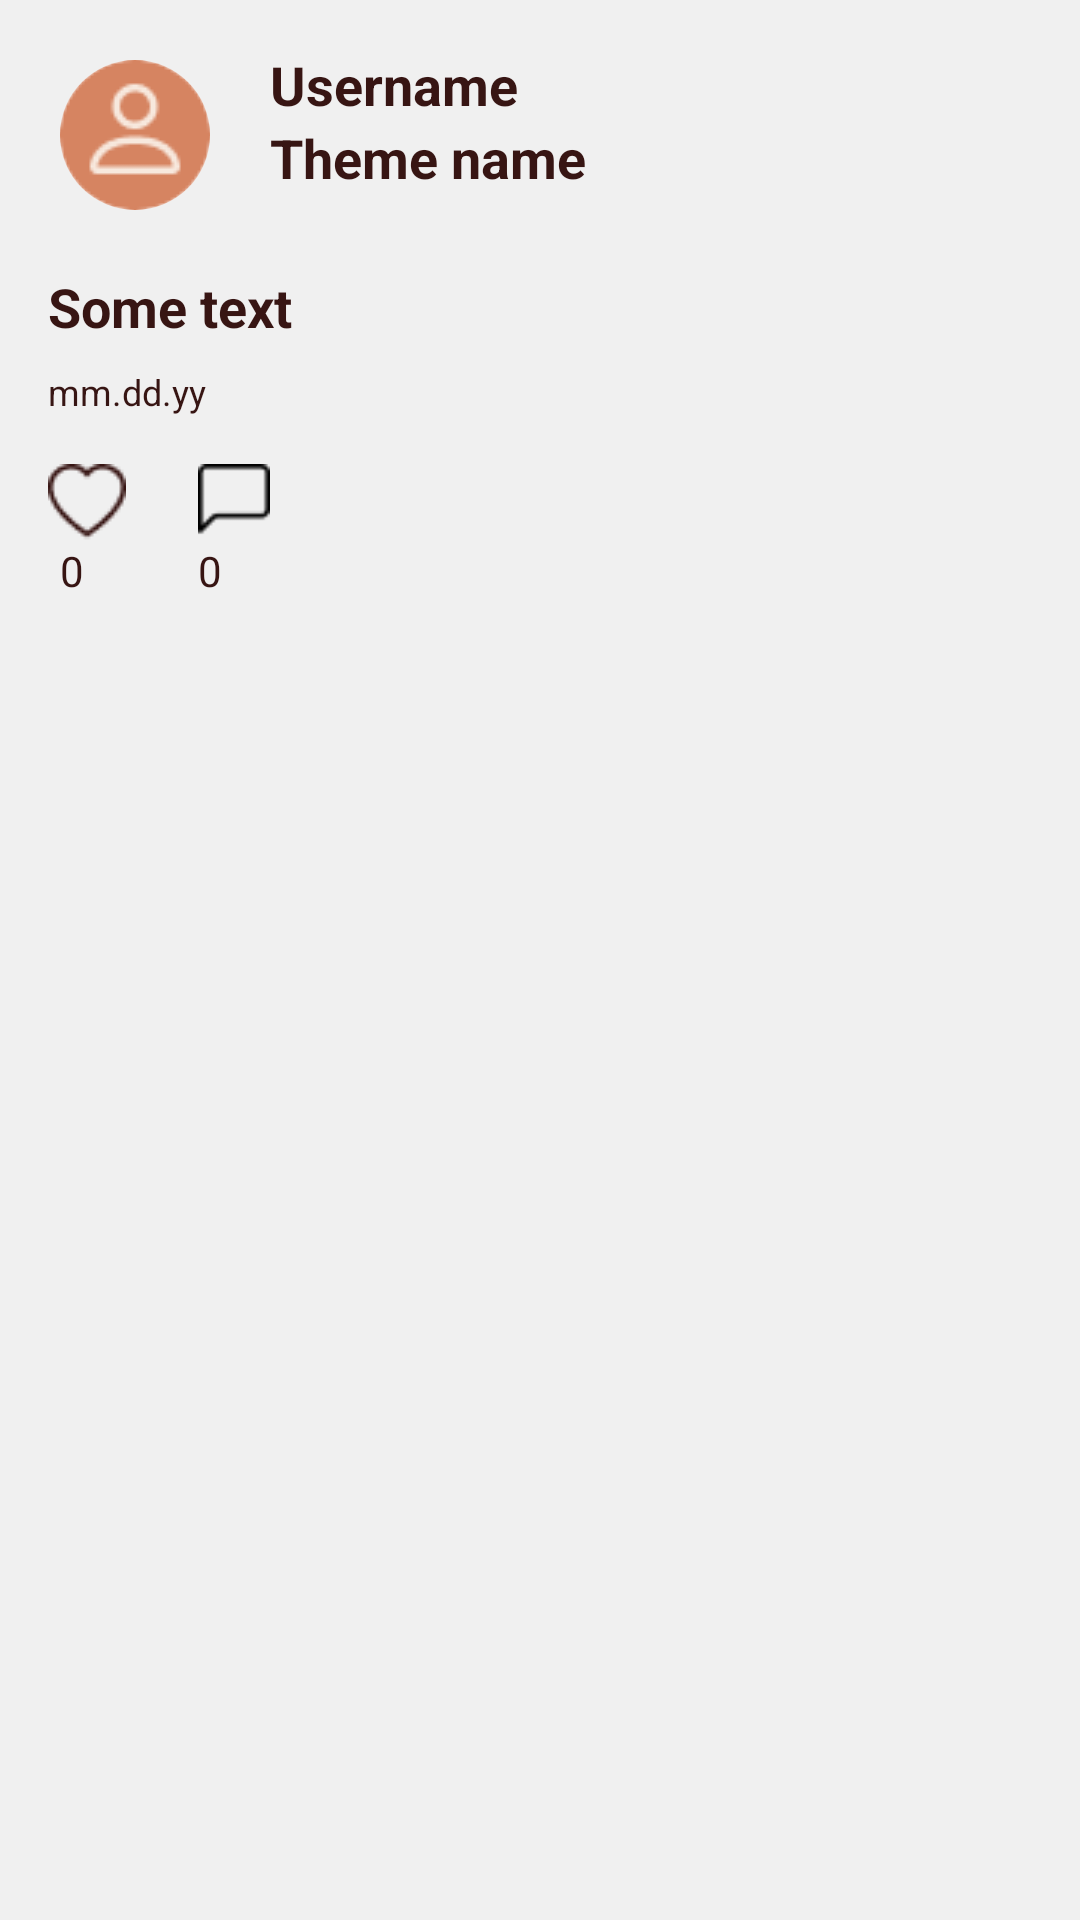

Locate icon controls on the screen. Image size 1080px×1920px, boxes as (x1, y1, x2, y2).
comments: (198, 464, 270, 534)
likes: (48, 464, 126, 538)
profile: (60, 60, 210, 210)
